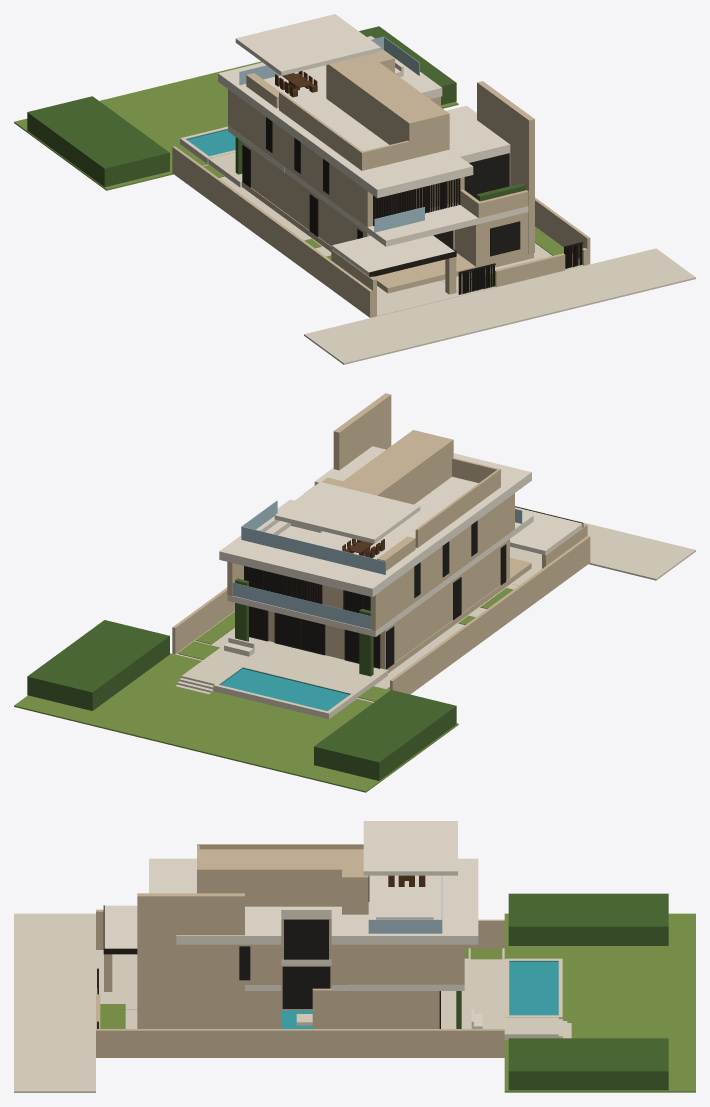
Rendered from villa_v5.glb.
3 views of the same model, one above another, from view 1: azimuth 30°, elevation 25°; view 2: azimuth 150°, elevation 25°; view 3: azimuth 270°, elevation 25° (orthographic). The views are drawn at different scales.
Parts seen in each view (by area): view 1: GROUND_street_verge, HEDGE_context_rear_left, RF_core, CONTEXT_lawn_beyond_plot (NOT PLOT), WALL_side_left, RF_canopy, ROOF_f, STONE_FIN (render-sourced, not on plan), ROOF_r, CARPORT_canopy (render-sourced, not on plan), GF_plinth, SLAB_FF_front_ext (+26 smaller); view 2: CONTEXT_lawn_beyond_plot (NOT PLOT), HEDGE_context_rear_right, HEDGE_context_rear_left, ROOF_r, WALL_side_left, RF_canopy, RF_core, DECK_rear_strip, GROUND_street_verge, STONE_FIN (render-sourced, not on plan), ROOF_f, POOL_water (v3 9.50 x 3.60) (+27 smaller); view 3: CONTEXT_lawn_beyond_plot (NOT PLOT), GROUND_street_verge, WALL_side_right, STONE_FIN (render-sourced, not on plan), HEDGE_context_rear_left, HEDGE_context_rear_right, RF_core, ROOF_r, RF_canopy, FF_rear, FF_front, GF_rear (+21 smaller).
Part boxes in pixels (left/top/right/bottom): GROUND_street_verge: left=304, top=248, right=695, bottom=364; HEDGE_context_rear_left: left=27, top=96, right=169, bottom=187; RF_core: left=326, top=54, right=449, bottom=159; CONTEXT_lawn_beyond_plot (NOT PLOT): left=14, top=61, right=458, bottom=190; WALL_side_left: left=172, top=146, right=372, bottom=317; RF_canopy: left=235, top=14, right=380, bottom=75; ROOF_f: left=313, top=129, right=473, bottom=198; STONE_FIN (render-sourced, not on plan): left=477, top=81, right=534, bottom=254; ROOF_r: left=218, top=36, right=442, bottom=133; CARPORT_canopy (render-sourced, not on plan): left=332, top=235, right=454, bottom=276; GF_plinth: left=242, top=182, right=533, bottom=293; SLAB_FF_front_ext: left=367, top=205, right=528, bottom=246; CONTEXT_lawn_beyond_plot (NOT PLOT): left=14, top=653, right=458, bottom=792; HEDGE_context_rear_right: left=27, top=620, right=169, bottom=710; HEDGE_context_rear_left: left=314, top=690, right=456, bottom=780; ROOF_r: left=219, top=499, right=443, bottom=596; WALL_side_left: left=390, top=535, right=590, bottom=694; RF_canopy: left=274, top=482, right=420, bottom=543; RF_core: left=337, top=430, right=453, bottom=504; DECK_rear_strip: left=208, top=637, right=387, bottom=697; GROUND_street_verge: left=304, top=486, right=695, bottom=580; STONE_FIN (render-sourced, not on plan): left=333, top=393, right=391, bottom=470; ROOF_f: left=414, top=453, right=531, bottom=526; POOL_water (v3 9.50 x 3.60): left=221, top=668, right=349, bottom=710; CONTEXT_lawn_beyond_plot (NOT PLOT): left=504, top=913, right=695, bottom=1092; GROUND_street_verge: left=14, top=913, right=95, bottom=1092; WALL_side_right: left=96, top=1029, right=504, bottom=1057; STONE_FIN (render-sourced, not on plan): left=137, top=893, right=244, bottom=1028; HEDGE_context_rear_left: left=508, top=893, right=668, bottom=945; HEDGE_context_rear_right: left=508, top=1038, right=668, bottom=1090; RF_core: left=197, top=849, right=363, bottom=906; ROOF_r: left=331, top=858, right=478, bottom=944; RF_canopy: left=363, top=821, right=457, bottom=875; FF_rear: left=331, top=944, right=439, bottom=984; FF_front: left=184, top=944, right=281, bottom=984; GF_rear: left=347, top=991, right=439, bottom=1028.
Size of what is drawn, in the model's own units: 30.73 by 13.05 by 49.89.
